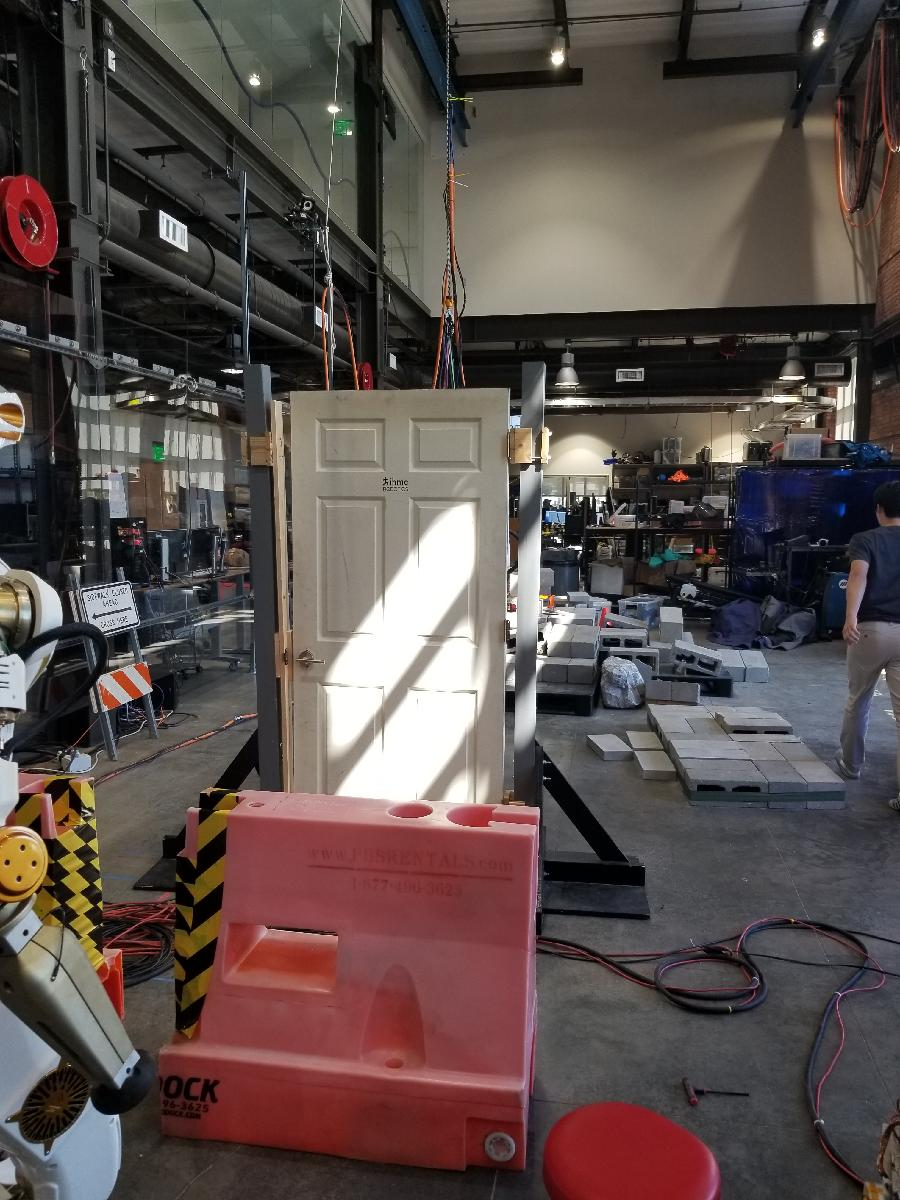door: (284, 386, 519, 865)
doorHandle: (298, 645, 337, 672)
